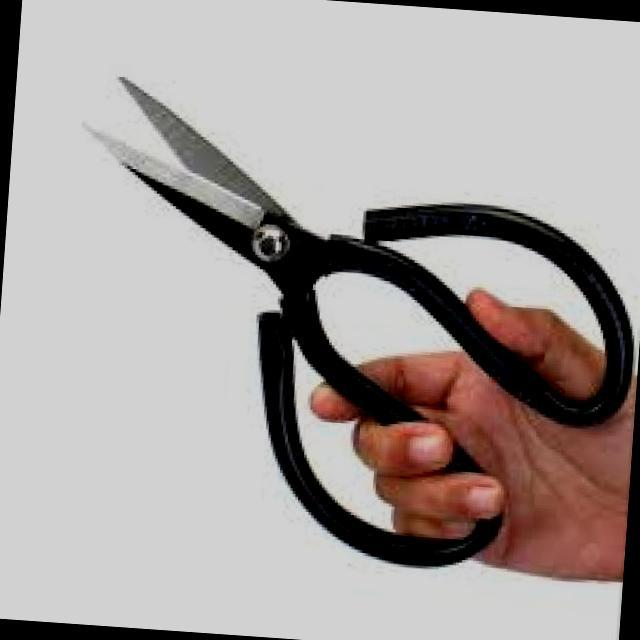Scissors: (38, 50, 640, 593)
